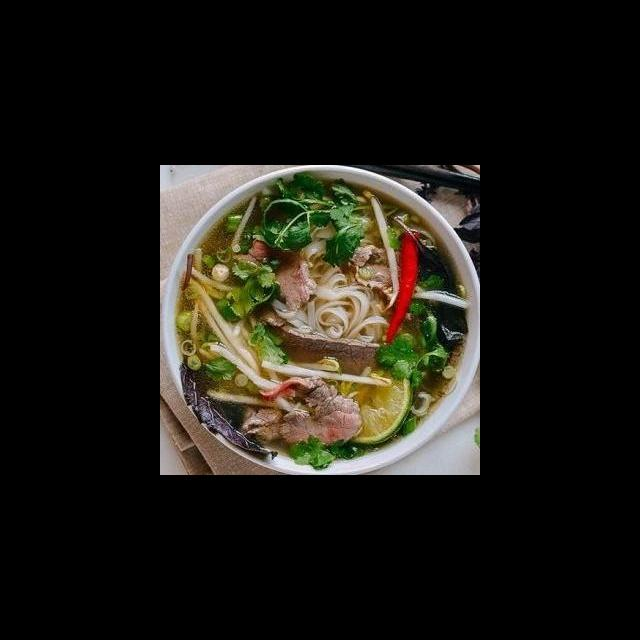banh pho: (291, 236, 388, 340)
pho bo: (164, 191, 474, 475)
thit bo: (255, 305, 388, 376), (237, 375, 365, 448), (227, 231, 322, 315), (347, 239, 406, 299)
